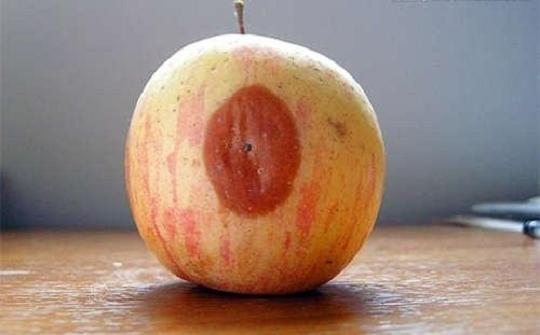apple: (121, 24, 386, 297)
